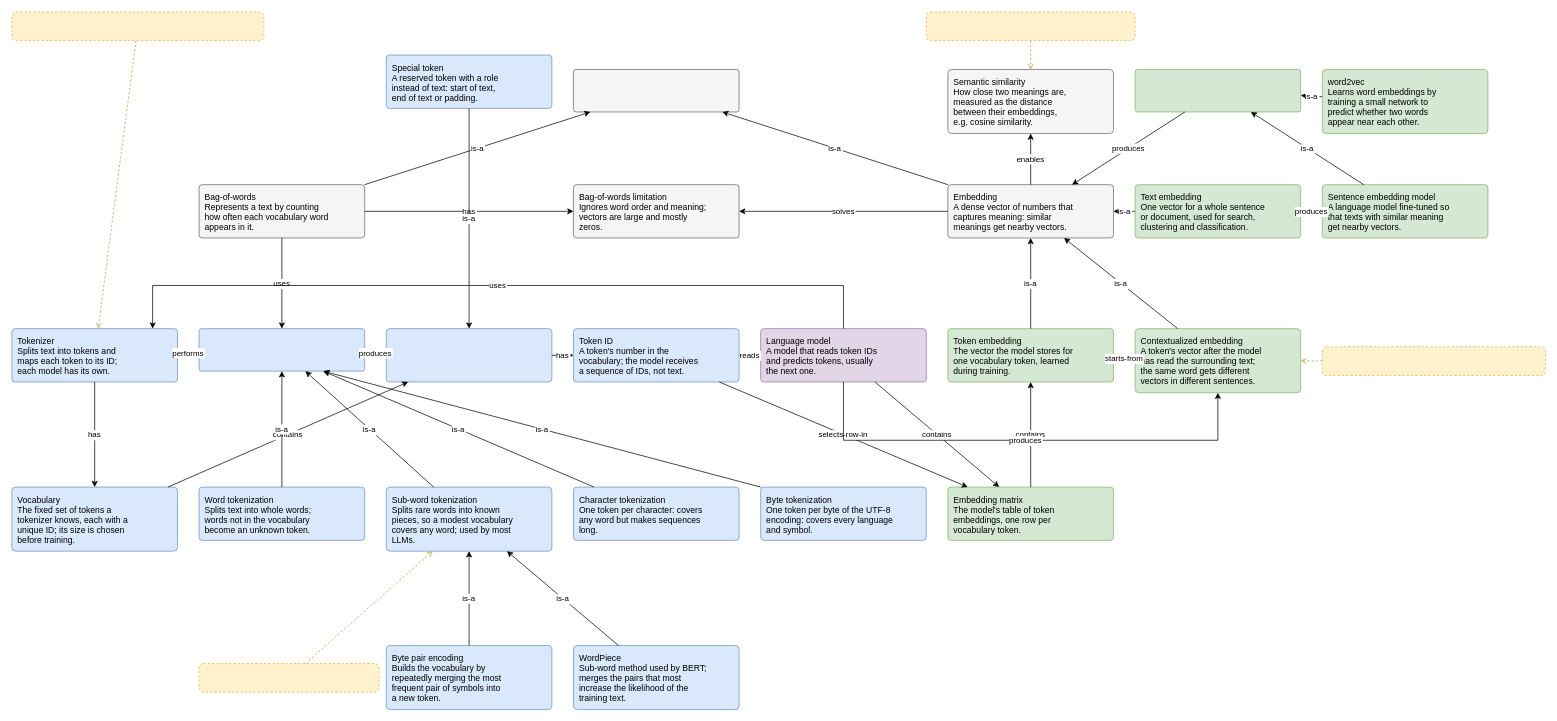
The diagram is 1557 pixels wide and 721 high, and some of its shapes have lost their labels. The centre of each missing label's shape, as x and y in pixels:
"Can close embeddings differ in meaning?" belongs at (1030,26).
"Embedding method A way of learning embeddings from data." belongs at (1217,90).
"How does context change a token's embedding?" belongs at (1433,360).
"Text representation Turning text into numbers that a model can compute with." belongs at (656,90).
"Token One unit of text: a word, part of a word, a character or a byte." belongs at (469,355).
"Tokenization Splitting text into tokens, the units a language model reads." belongs at (281,349).
"Why can't a model use another model's tokenizer?" belongs at (137,26).
"Why do LLMs prefer sub-word tokens?" belongs at (288,677).
